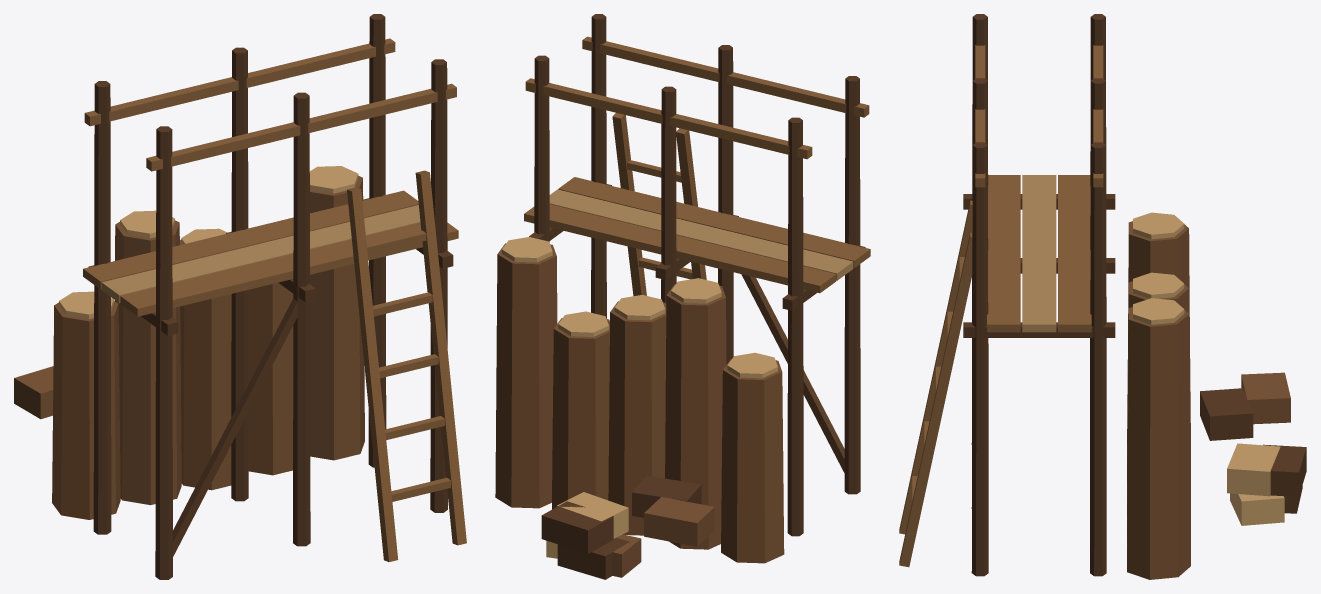
Rendered from palisade_site.glb.
The picture shows the model from 3 angles, left to right: view 1: azimuth 30°, elevation 25°; view 2: azimuth 150°, elevation 25°; view 3: azimuth 270°, elevation 25°; orthographic projection. The views are drawn at different scales.
Visible parts, largest first — view 1: wall_palisade_building; view 2: wall_palisade_building; view 3: wall_palisade_building.
Part boxes in pixels (x1=…): wall_palisade_building: x1=14, y1=14, x2=466, y2=579; wall_palisade_building: x1=495, y1=14, x2=870, y2=579; wall_palisade_building: x1=899, y1=14, x2=1306, y2=579.
Bounding box in the file's own units: 2.1 × 2.81 × 2.41.
